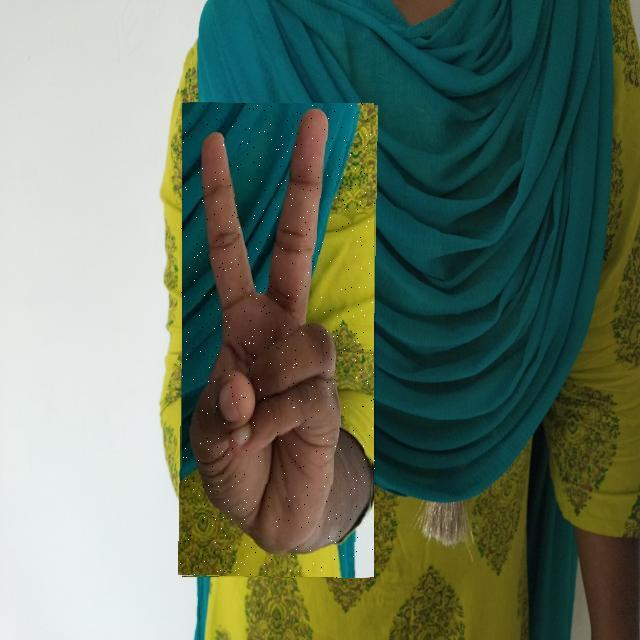V: (180, 103, 376, 578)
